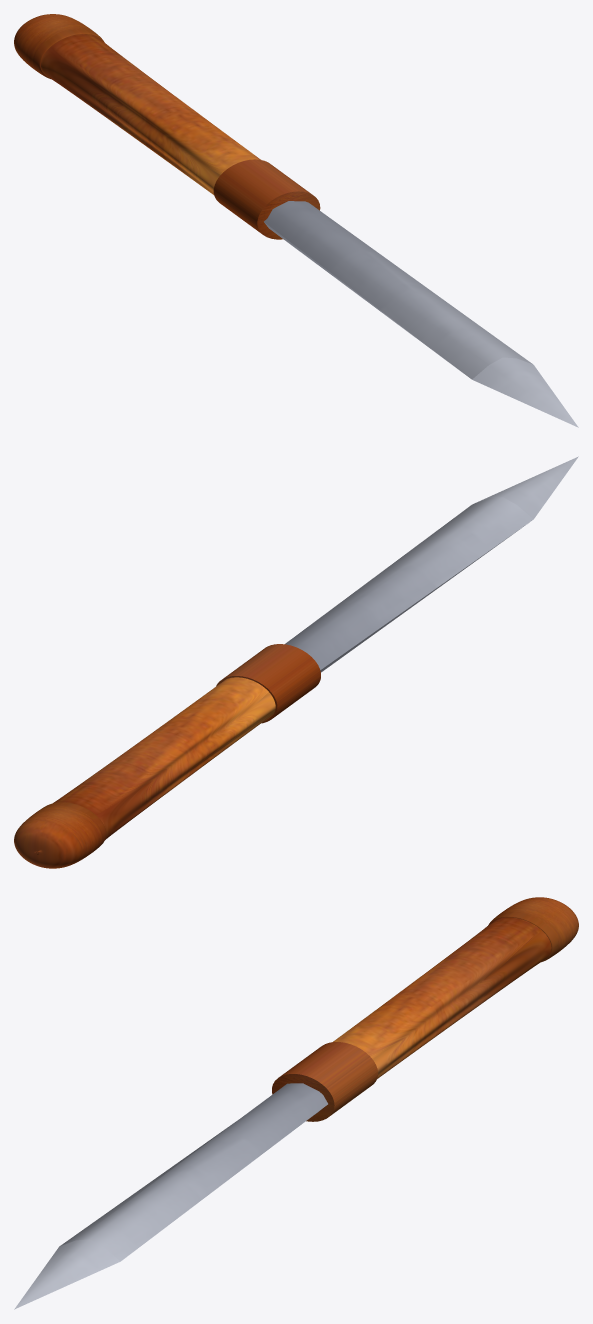
Rendered from Mes textured.fbx.
3 renders of one model, top to bottom at view 1: azimuth 30°, elevation 25°; view 2: azimuth 150°, elevation 25°; view 3: azimuth 330°, elevation 25°, orthographic.
Visible parts, largest first — view 1: Cylinder_2; view 2: Cylinder_2; view 3: Cylinder_2.
Boxes of the visible parts, bbox=[...] form: Cylinder_2: bbox=[14, 14, 578, 427]; Cylinder_2: bbox=[14, 456, 578, 868]; Cylinder_2: bbox=[14, 897, 578, 1309].
Bounding box in the file's own units: 15.29 × 9.83 × 208.
Materials: 1 (1 with a texture image).
